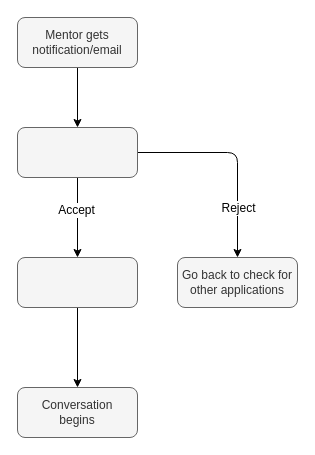
This 315x455 diagram has some shape labels left out. The shapes that lost their labels are listed below. From the top down, each one's centre as x and y in pixels, then its label:
At (77,152): "Mentor checks the profile".
At (77,282): "Send a reply to personal message".
